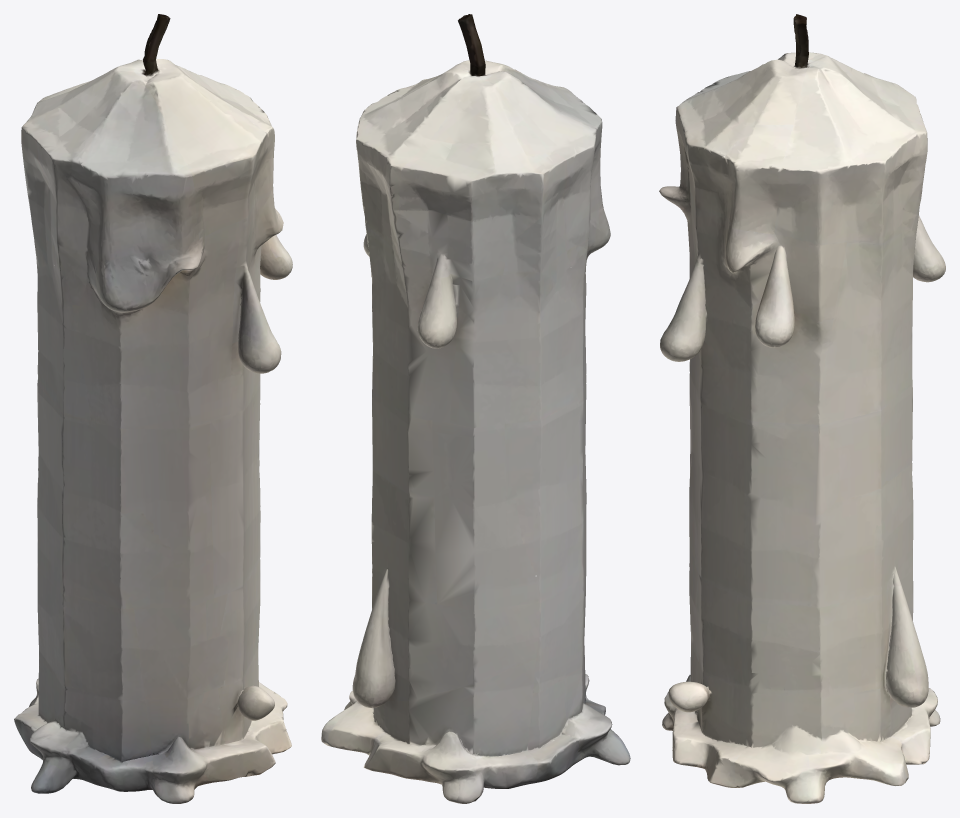
File: candle.glb
3 views of the same model, side by side, from view 1: azimuth 30°, elevation 25°; view 2: azimuth 150°, elevation 25°; view 3: azimuth 270°, elevation 25° (orthographic).
Parts seen in each view (by area): view 1: tripo_node_feaa9a70-68c3-4ee1-be10-6b2566f3b5bc; view 2: tripo_node_feaa9a70-68c3-4ee1-be10-6b2566f3b5bc; view 3: tripo_node_feaa9a70-68c3-4ee1-be10-6b2566f3b5bc.
Part boxes in pixels (box(x1,y1,x2,y2)): tripo_node_feaa9a70-68c3-4ee1-be10-6b2566f3b5bc: box(14, 14, 292, 803); tripo_node_feaa9a70-68c3-4ee1-be10-6b2566f3b5bc: box(321, 14, 630, 803); tripo_node_feaa9a70-68c3-4ee1-be10-6b2566f3b5bc: box(659, 14, 945, 803).
Bounding box in the file's own units: 0.3711 × 0.9811 × 0.3461.
1 material, 1 textured.
